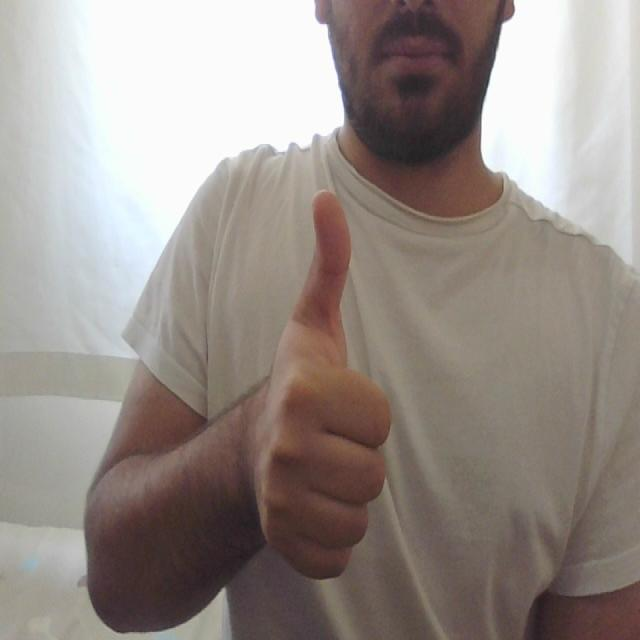Tamam: (226, 179, 405, 578)
